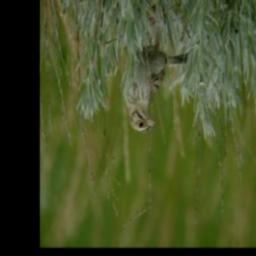Sparrow: (117, 8, 192, 138)
